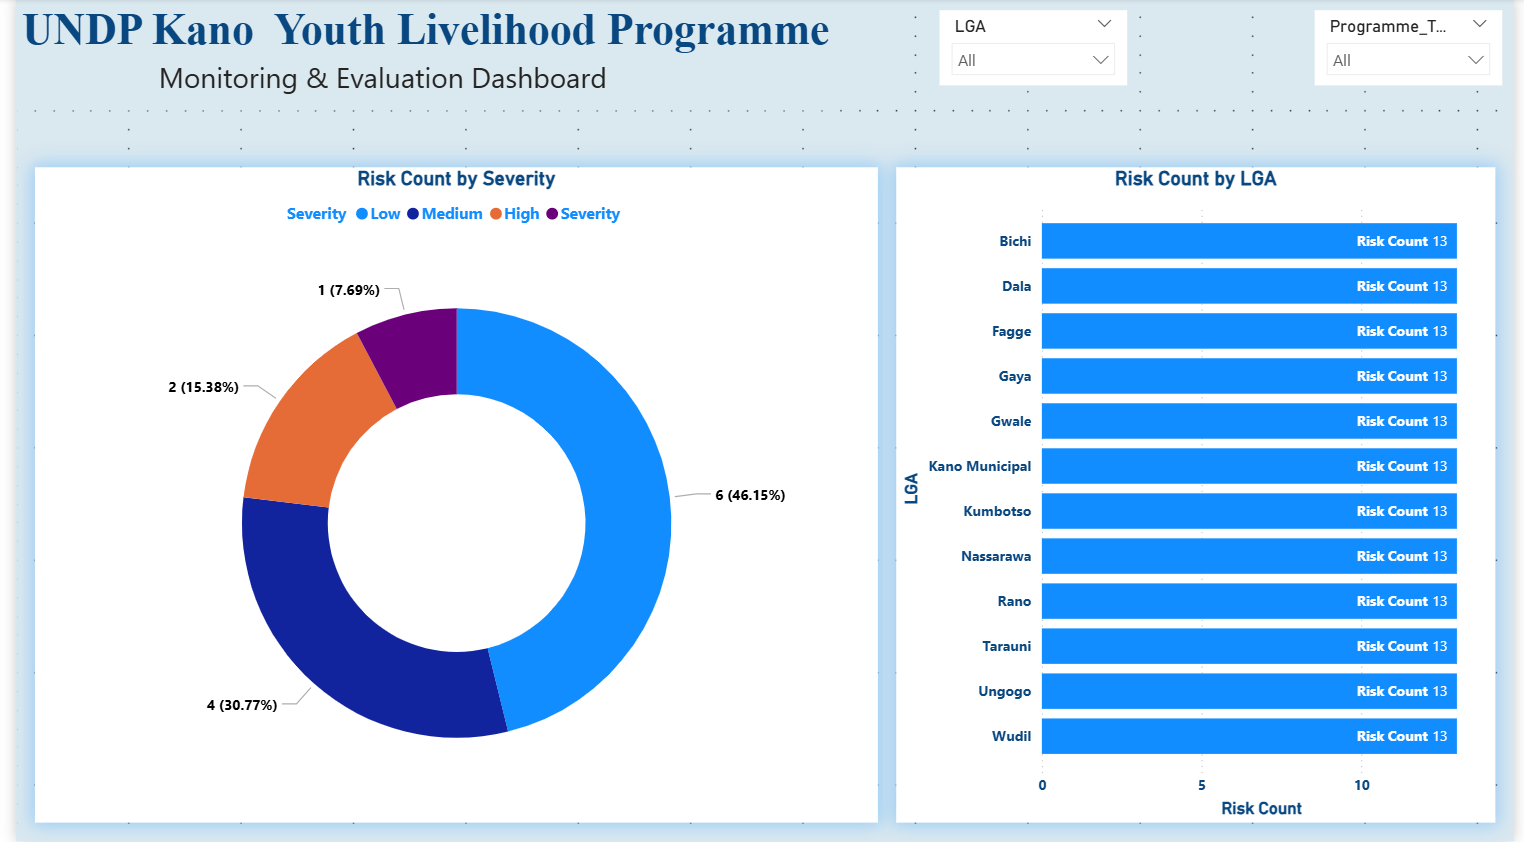

This screenshot's page, from the dashboard's own definition file:
{"tool":"powerbi","page":{"name":"Risk & Issues","canvas":[1280,720],"ordinal":3},"visuals":[{"type":"donutChart","title":"Risk Count by Severity","fields":{"Y":["Beneficiaries.Risk Count"],"Category":["Risk_Register.Column3"]},"box":[16,144,720,560],"z":0},{"type":"barChart","fields":{"Category":["Beneficiaries.LGA"],"Y":["Beneficiaries.Risk Count"]},"box":[752,144,512,560],"z":1000},{"type":"textbox","box":[0,0,704,96],"z":2000},{"type":"slicer","fields":{"Values":["Beneficiaries.LGA"]},"box":[788.8,10.3,160,64],"z":3000},{"type":"slicer","fields":{"Values":["Beneficiaries.Programme_Type"]},"box":[1108.8,10.3,160,64],"z":5000}]}

Visuals, with their boxes in screenshot pixels (x1, y1, x2, y2), scaled from the page's 1280x720 canvas onto the 1524x842 screenshot:
"Risk Count by Severity" donutChart: 19:168:876:823
barChart - Beneficiaries.LGA x Beneficiaries.Risk Count: 895:168:1505:823
textbox: 0:0:838:112
slicer - Beneficiaries.LGA: 939:12:1130:87
slicer - Beneficiaries.Programme_Type: 1320:12:1511:87
